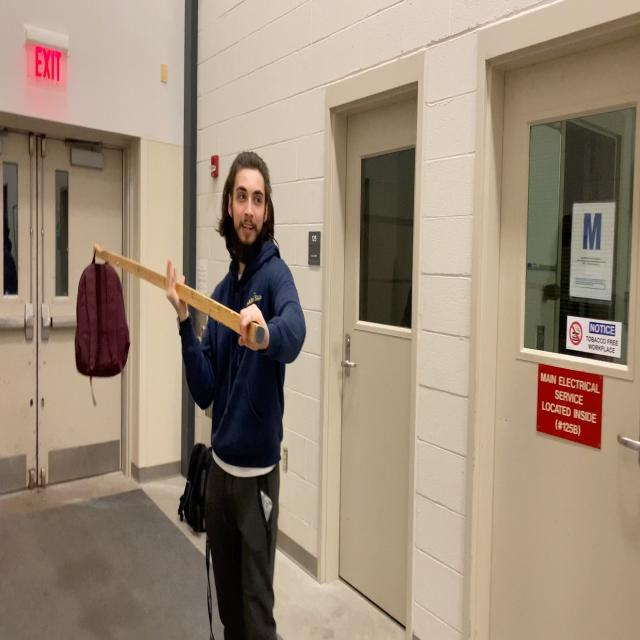Backpacks: (75, 264, 130, 378)
